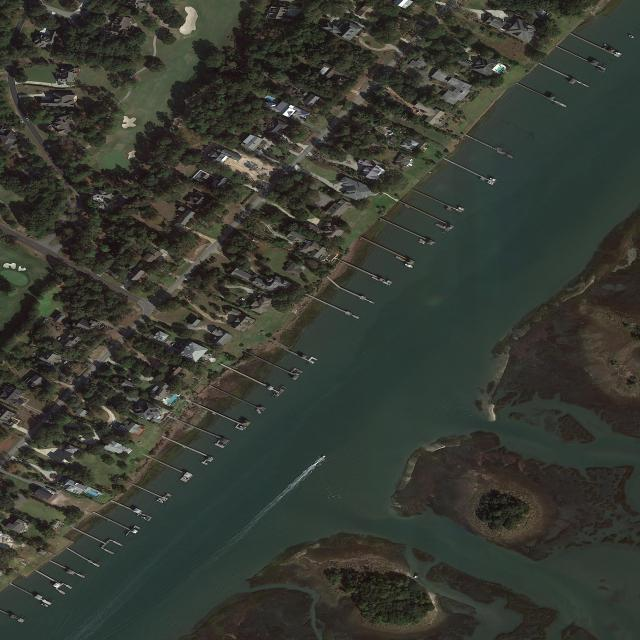ship: (404, 263, 413, 268), (42, 318, 49, 324), (486, 181, 494, 186), (489, 177, 497, 182), (615, 52, 623, 56), (457, 207, 465, 211), (156, 499, 164, 503), (143, 517, 151, 521), (41, 603, 49, 607), (629, 34, 635, 39), (239, 426, 246, 430), (418, 240, 425, 244), (252, 239, 259, 243), (183, 476, 190, 480), (320, 455, 326, 459)
small-vehicle: (239, 297, 246, 301), (62, 361, 68, 365), (45, 363, 51, 367), (45, 485, 51, 489), (51, 488, 57, 492), (336, 22, 341, 26), (338, 77, 343, 81), (416, 110, 421, 114), (108, 425, 113, 429), (170, 342, 175, 346), (25, 117, 29, 121), (79, 437, 83, 441), (57, 337, 62, 340), (413, 107, 418, 110), (389, 133, 394, 136), (114, 426, 118, 429), (388, 130, 393, 132), (58, 84, 65, 85)
